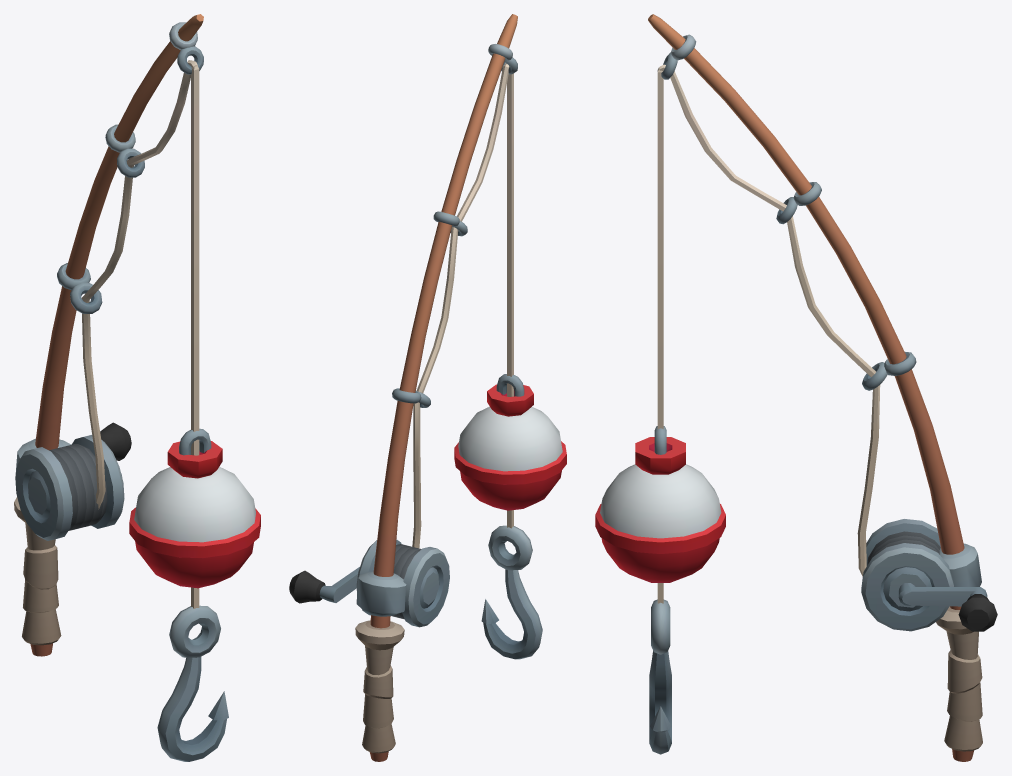
The model's file is fishing_rod.gltf.
3 renders of one model, left to right at view 1: azimuth 30°, elevation 25°; view 2: azimuth 150°, elevation 25°; view 3: azimuth 270°, elevation 25°, orthographic. The views are drawn at different scales.
Visible parts, largest first — view 1: fishing_rod, fishing_rod_floater, fishing_rod_hook, fishing_rod_line, fishing_rod_reelhandle; view 2: fishing_rod, fishing_rod_floater, fishing_rod_hook, fishing_rod_line, fishing_rod_reelhandle; view 3: fishing_rod, fishing_rod_floater, fishing_rod_hook, fishing_rod_line, fishing_rod_reelhandle.
Boxes of the visible parts, x1,y1,x2,y2 form: fishing_rod: (14,14,203,656); fishing_rod_floater: (129,428,260,588); fishing_rod_hook: (157,605,228,761); fishing_rod_line: (191,66,199,608); fishing_rod_reelhandle: (100,422,131,475); fishing_rod: (355,14,517,761); fishing_rod_floater: (454,374,566,510); fishing_rod_hook: (481,525,542,659); fishing_rod_line: (507,73,513,528); fishing_rod_reelhandle: (289,567,359,603); fishing_rod: (648,14,982,761); fishing_rod_floater: (595,426,725,582); fishing_rod_hook: (649,599,671,754); fishing_rod_line: (657,68,663,603); fishing_rod_reelhandle: (898,583,997,631).
Size of the model in its own units: 0.5383 by 2.61 by 1.27.
Materials: 1 (1 with a texture image).
